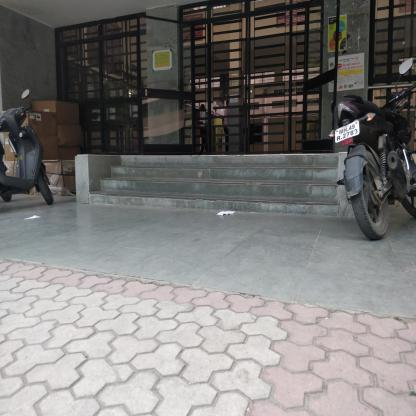stairs: (124, 156, 326, 223)
